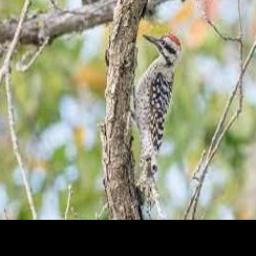Woodpecker: (131, 33, 182, 220)
